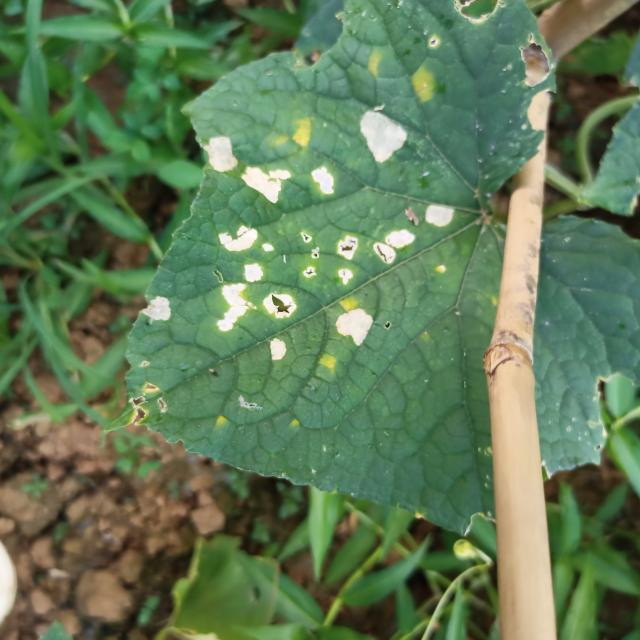disease_cucumber: (204, 218, 415, 362), (352, 105, 416, 170), (240, 167, 294, 206), (269, 116, 318, 155), (419, 198, 468, 233), (200, 135, 240, 173), (405, 66, 444, 103), (306, 166, 341, 200), (364, 53, 386, 76), (316, 352, 339, 372), (339, 294, 360, 312)
